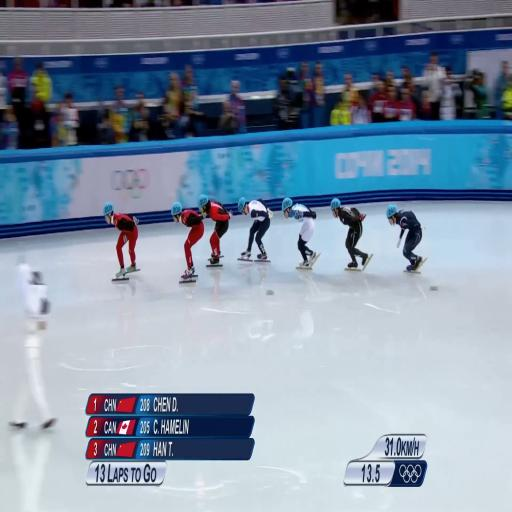Skater: (331, 198, 372, 270), (103, 202, 138, 281), (282, 198, 320, 269), (387, 205, 426, 272), (172, 202, 204, 282), (199, 195, 232, 266), (238, 198, 272, 261)
